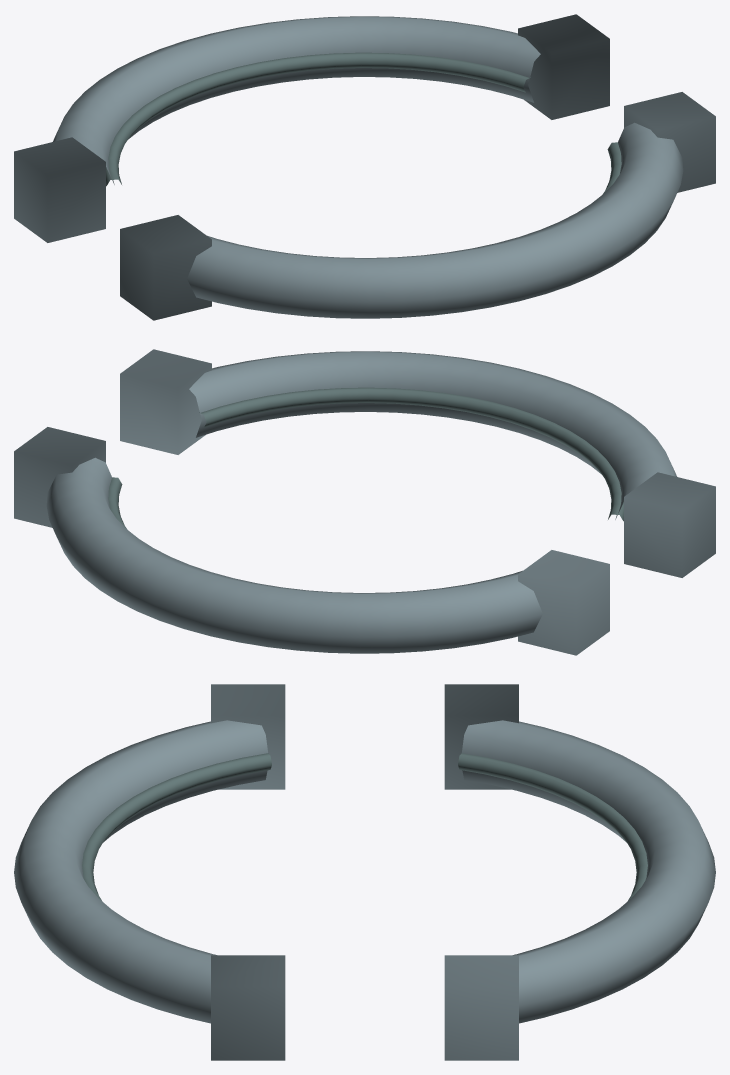
The model's file is clamp_open.glb.
3 views of the same model, one above another, from view 1: azimuth 30°, elevation 25°; view 2: azimuth 150°, elevation 25°; view 3: azimuth 270°, elevation 25° (orthographic). The views are drawn at different scales.
Parts seen in each view (by area): view 1: JawA, JawB, ThumbWingB1, JawBLiner, ThumbWingB2, ThumbWingA2, ThumbWingA1; view 2: JawB, JawA, ThumbWingA2, JawALiner, ThumbWingA1, ThumbWingB1, ThumbWingB2; view 3: JawA, JawB, ThumbWingA1, ThumbWingB2, ThumbWingA2, ThumbWingB1, JawALiner, JawBLiner.
Boxes of the visible parts, bbox=[...] form: JawA: bbox=[187, 122, 683, 318]; JawB: bbox=[53, 16, 540, 184]; ThumbWingB1: bbox=[14, 137, 105, 242]; JawBLiner: bbox=[106, 52, 530, 186]; ThumbWingB2: bbox=[518, 14, 609, 119]; ThumbWingA2: bbox=[120, 215, 211, 320]; ThumbWingA1: bbox=[624, 92, 715, 192]; JawB: bbox=[46, 457, 542, 653]; JawA: bbox=[189, 351, 676, 519]; ThumbWingA2: bbox=[624, 472, 715, 577]; JawALiner: bbox=[199, 387, 623, 521]; ThumbWingA1: bbox=[120, 349, 211, 454]; ThumbWingB1: bbox=[518, 550, 609, 655]; ThumbWingB2: bbox=[14, 427, 105, 527]; JawA: bbox=[14, 720, 267, 1023]; JawB: bbox=[462, 720, 715, 1023]; ThumbWingA1: bbox=[211, 955, 285, 1060]; ThumbWingB2: bbox=[444, 955, 518, 1060]; ThumbWingA2: bbox=[211, 684, 285, 789]; ThumbWingB1: bbox=[444, 684, 518, 789]; JawALiner: bbox=[82, 753, 271, 901]; JawBLiner: bbox=[458, 753, 647, 901].
Bounding box in the file's own units: 0.00965 × 0.0011 × 0.00946.
